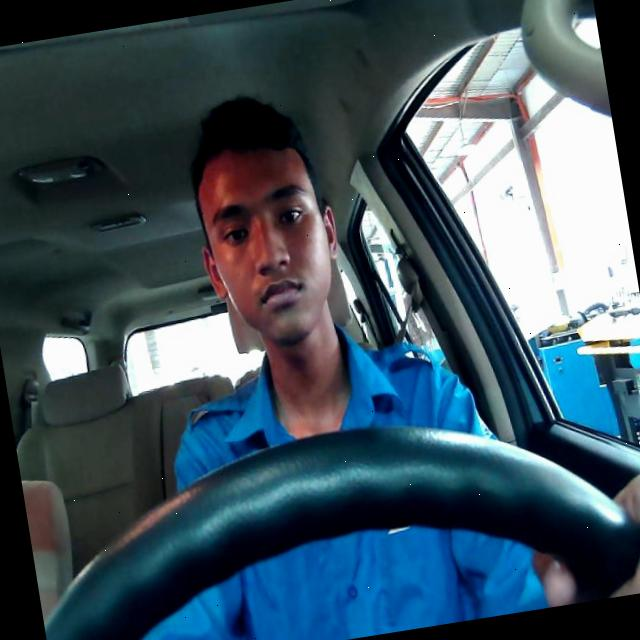focused: (188, 137, 352, 354)
